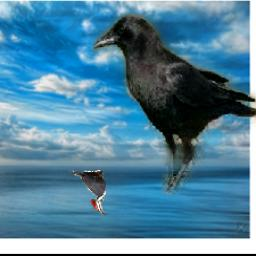Crow: (93, 14, 256, 194)
Woodpecker: (69, 171, 107, 216)
